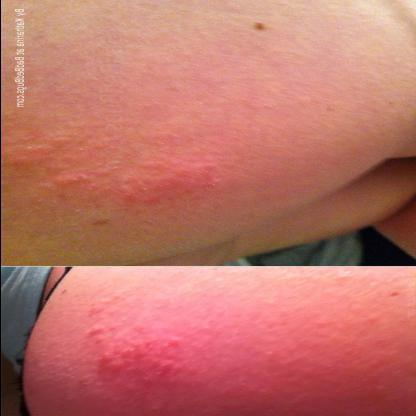Bed Bug: (2, 120, 242, 210), (72, 288, 189, 395)
